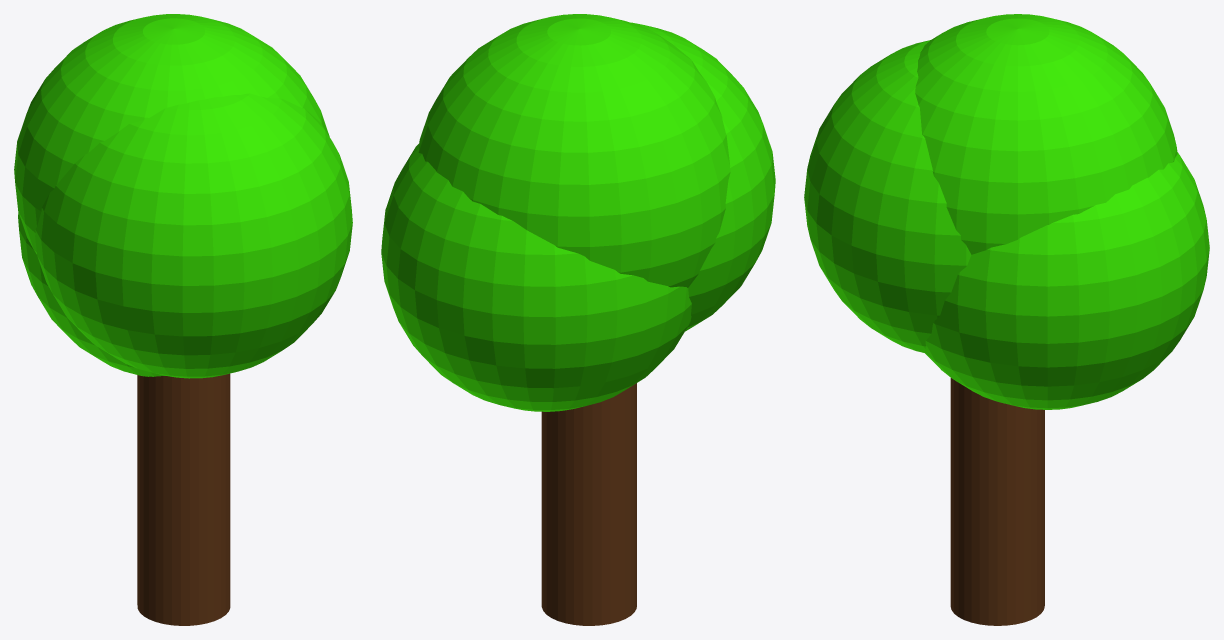
File: basictree.fbx
3 views of the same model, side by side, from view 1: azimuth 30°, elevation 25°; view 2: azimuth 150°, elevation 25°; view 3: azimuth 270°, elevation 25° (orthographic). The views are drawn at different scales.
Parts seen in each view (by area): view 1: Sphere.001, Sphere, Cylinder, Sphere.002; view 2: Sphere, Sphere.002, Cylinder, Sphere.001; view 3: Sphere.002, Sphere, Sphere.001, Cylinder.
Part boxes in pixels (x1=…): Sphere.001: x1=35, y1=93, x2=352, y2=378; Sphere: x1=14, y1=14, x2=329, y2=254; Cylinder: x1=137, y1=373, x2=230, y2=625; Sphere.002: x1=18, y1=212, x2=165, y2=376; Sphere: x1=418, y1=14, x2=730, y2=287; Sphere.002: x1=381, y1=143, x2=691, y2=411; Cylinder: x1=541, y1=383, x2=636, y2=625; Sphere.001: x1=631, y1=22, x2=775, y2=331; Sphere.002: x1=924, y1=152, x2=1209, y2=409; Sphere: x1=915, y1=14, x2=1177, y2=254; Sphere.001: x1=804, y1=40, x2=971, y2=352; Cylinder: x1=950, y1=378, x2=1044, y2=625.
Size of the model in its own units: 218 by 393 by 250.
